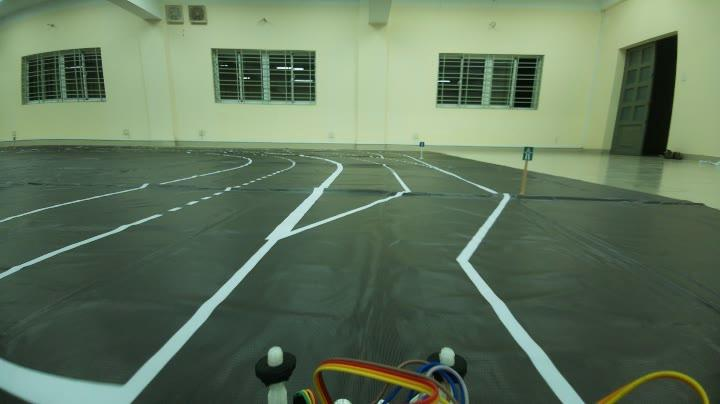highway_entry: (519, 144, 537, 166)
